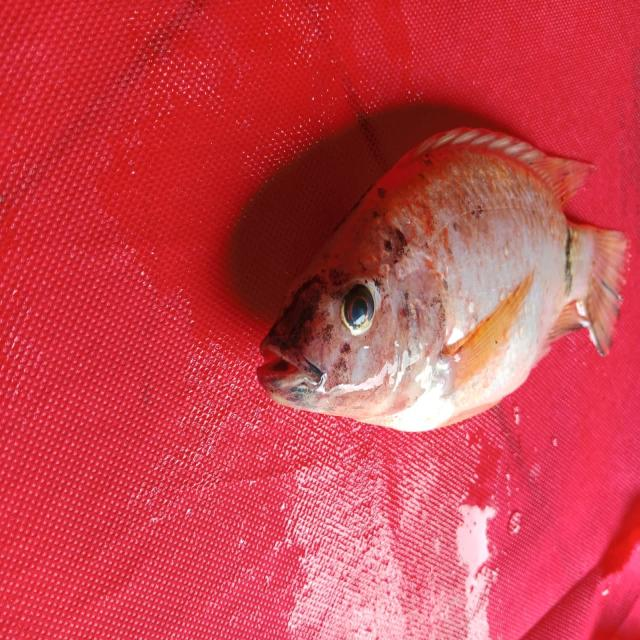ikan: (242, 89, 632, 451)
